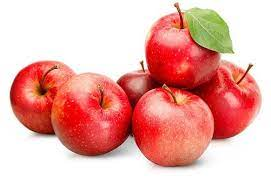apple: (187, 59, 264, 140)
